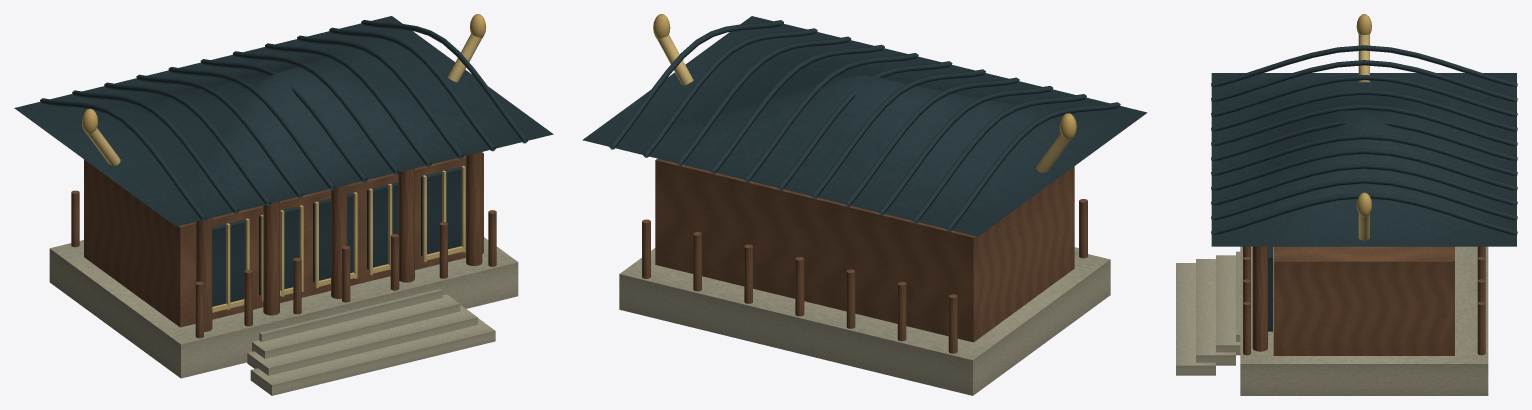
File: hanok.glb
3 views of the same model, side by side, from view 1: azimuth 30°, elevation 25°; view 2: azimuth 150°, elevation 25°; view 3: azimuth 270°, elevation 25° (orthographic). The views are drawn at different scales.
Visible parts, largest first — view 1: static_ornament; view 2: static_ornament; view 3: static_ornament.
Part boxes in pixels (x1,y1,x2,y2): static_ornament: [14, 14, 553, 395]; static_ornament: [582, 14, 1147, 395]; static_ornament: [1176, 14, 1517, 395].
Size of the model in its own units: 1.98 by 1.1 by 1.54.
1 material, 1 textured.
